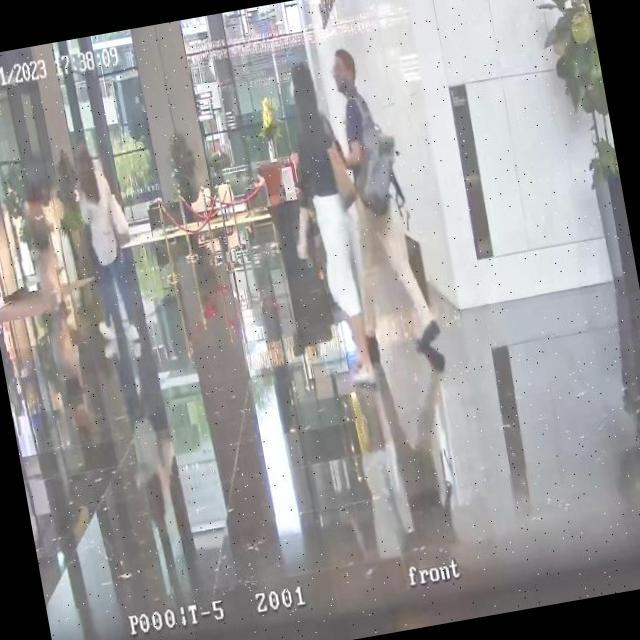person: (319, 39, 448, 386), (278, 58, 386, 384), (67, 135, 149, 352), (18, 178, 69, 320)
